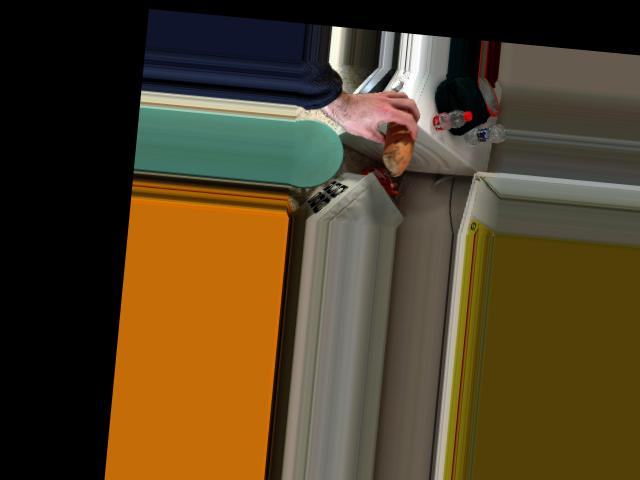sweet_potato: (382, 118, 416, 165)
